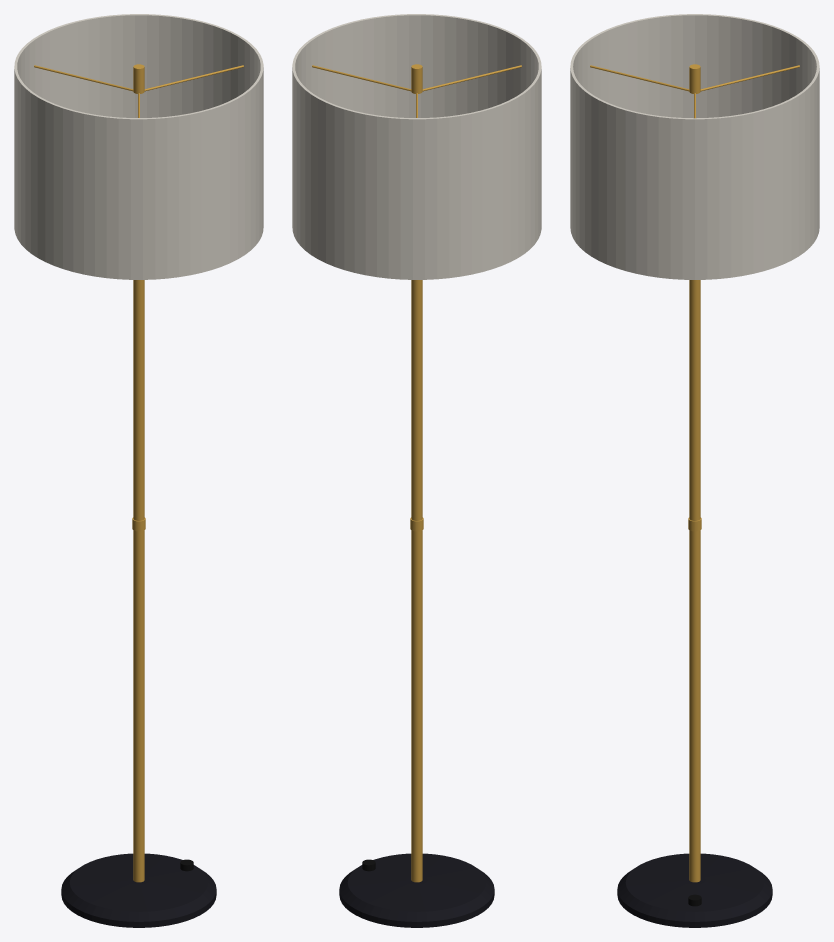
The model's file is 008_floor_lamp.glb.
The picture shows the model from 3 angles, left to right: view 1: azimuth 30°, elevation 25°; view 2: azimuth 150°, elevation 25°; view 3: azimuth 270°, elevation 25°; orthographic projection.
Parts seen in each view (by area): view 1: 008_drum_shade, 000_weighted_base, 002_stem_lower, 004_stem_upper; view 2: 008_drum_shade, 000_weighted_base, 002_stem_lower, 004_stem_upper; view 3: 008_drum_shade, 000_weighted_base, 002_stem_lower, 004_stem_upper.
Boxes of the visible parts, x1,y1,x2,y2 form: 008_drum_shade: (14, 14, 263, 279); 000_weighted_base: (61, 853, 216, 927); 002_stem_lower: (133, 530, 144, 882); 004_stem_upper: (133, 280, 144, 520); 008_drum_shade: (292, 14, 541, 279); 000_weighted_base: (339, 853, 494, 927); 002_stem_lower: (411, 530, 422, 882); 004_stem_upper: (411, 280, 422, 520); 008_drum_shade: (570, 14, 819, 279); 000_weighted_base: (617, 853, 772, 927); 002_stem_lower: (689, 530, 700, 882); 004_stem_upper: (689, 280, 700, 520).
Bounding box in the file's own units: 0.45 × 1.65 × 0.45.
